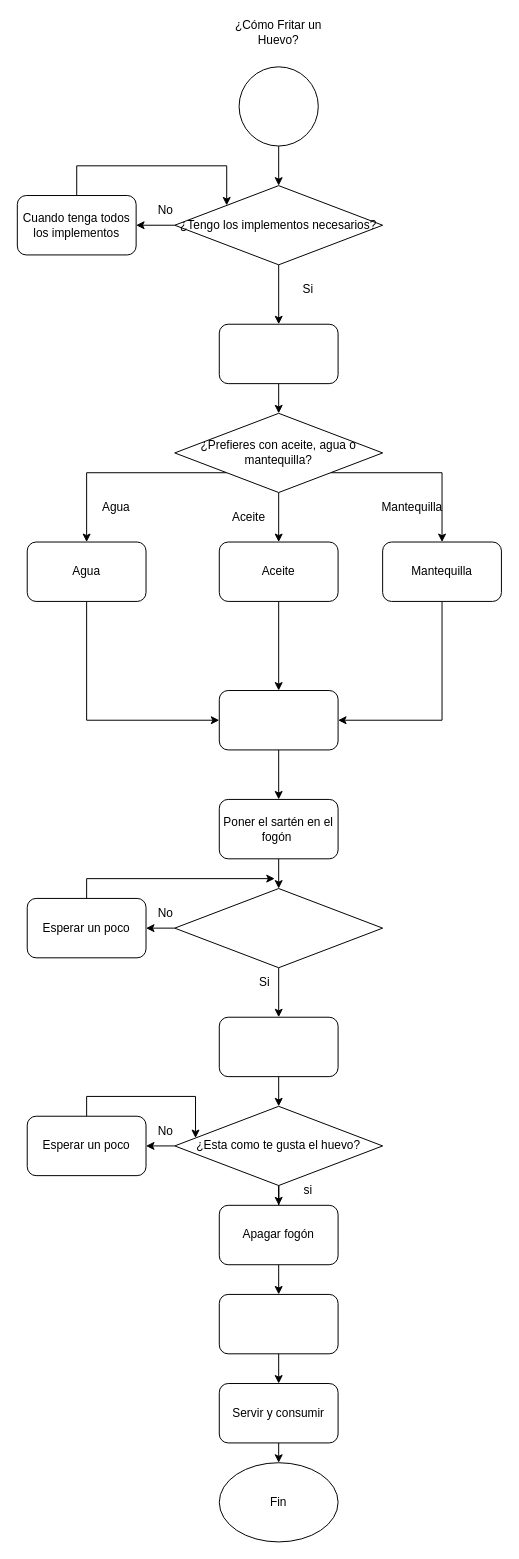
Image size: 519x1559. Some labels were removed from this diagram. Each missing label, with the centre of its shape:
"Echar el huevo en el sartén" belongs at point (278, 1046).
"Inicio" belongs at point (278, 106).
"Poner sal al gusto" belongs at point (278, 1323).
"Prender el fogón" belongs at point (278, 353).
"Verter el ingrediente en un sartén" belongs at point (278, 720).
"¿El sartén con el ingrediente esta caliente?" belongs at point (278, 928).
